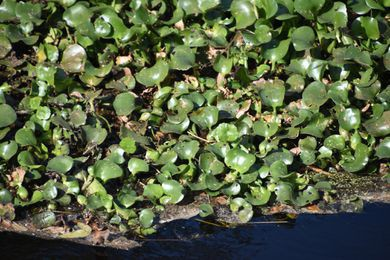water_hyacinth: (150, 74, 390, 220)
